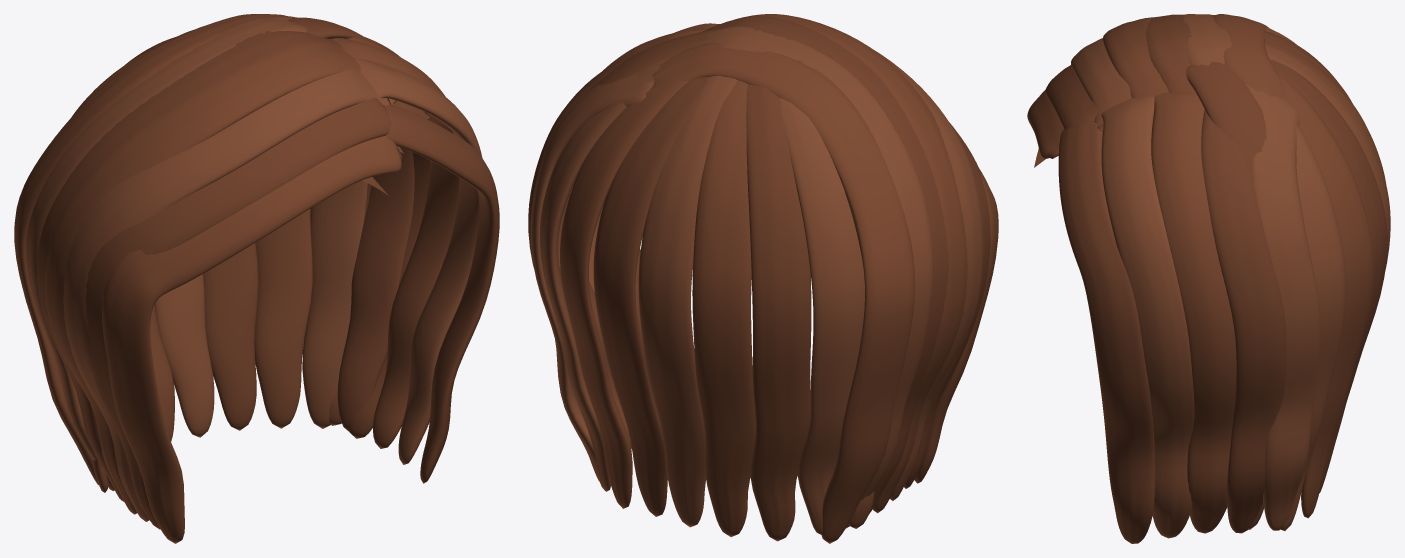
File: Feminine-side-sweep-hair260.glb
3 views of the same model, side by side, from view 1: azimuth 30°, elevation 25°; view 2: azimuth 150°, elevation 25°; view 3: azimuth 270°, elevation 25° (orthographic). The views are drawn at different scales.
Visible parts, largest first — view 1: 226 hair / Hair / sculpted 0.002, 226 hair / Hair / sculpted 1.004, 226 hair / Hair / sculpted 2.002; view 2: 226 hair / Hair / sculpted 0.002, 226 hair / Hair / sculpted 2.002, 226 hair / Hair / sculpted 1.004; view 3: 226 hair / Hair / sculpted 1.004, 226 hair / Hair / sculpted 2.002, 226 hair / Hair / sculpted 0.002.
Part boxes in pixels (x1,y1,x2,y2): 226 hair / Hair / sculpted 0.002: [14, 14, 459, 543]; 226 hair / Hair / sculpted 1.004: [36, 17, 499, 529]; 226 hair / Hair / sculpted 2.002: [26, 17, 482, 521]; 226 hair / Hair / sculpted 0.002: [558, 14, 998, 543]; 226 hair / Hair / sculpted 2.002: [530, 23, 983, 534]; 226 hair / Hair / sculpted 1.004: [528, 16, 990, 541]; 226 hair / Hair / sculpted 1.004: [1045, 14, 1387, 543]; 226 hair / Hair / sculpted 2.002: [1071, 14, 1390, 538]; 226 hair / Hair / sculpted 0.002: [1027, 14, 1386, 533].
Bounding box in the file's own units: 1.01 × 1.09 × 0.8006.
